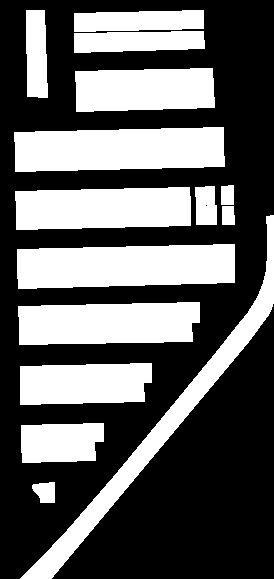parkingspot: (19, 215, 274, 579), (17, 262, 234, 288), (15, 146, 224, 171), (17, 244, 234, 268), (14, 127, 223, 151), (18, 302, 199, 326), (16, 205, 190, 229), (15, 187, 190, 210), (19, 323, 192, 344), (76, 87, 214, 111), (75, 68, 213, 91), (20, 363, 151, 385), (74, 31, 204, 52), (20, 382, 144, 404), (74, 10, 203, 31), (26, 10, 47, 97), (21, 423, 103, 443), (21, 441, 95, 462), (32, 482, 54, 502), (196, 205, 216, 224), (195, 186, 214, 205), (221, 185, 233, 204), (222, 206, 234, 224)
